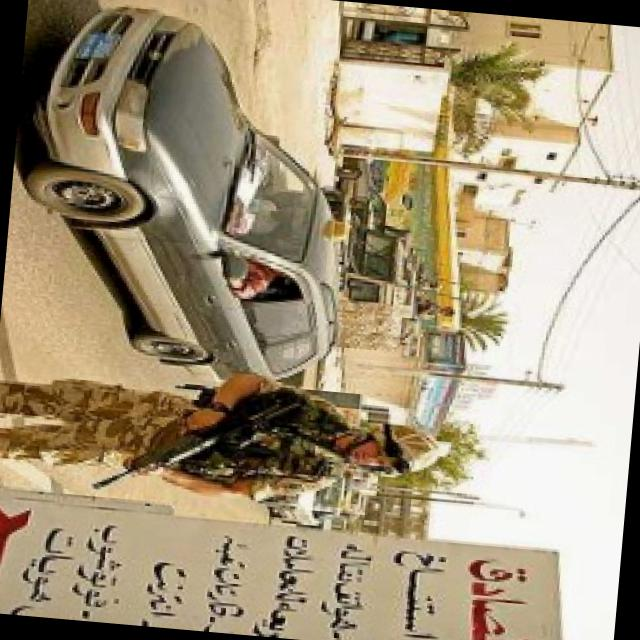long weapon: (78, 358, 288, 520)
